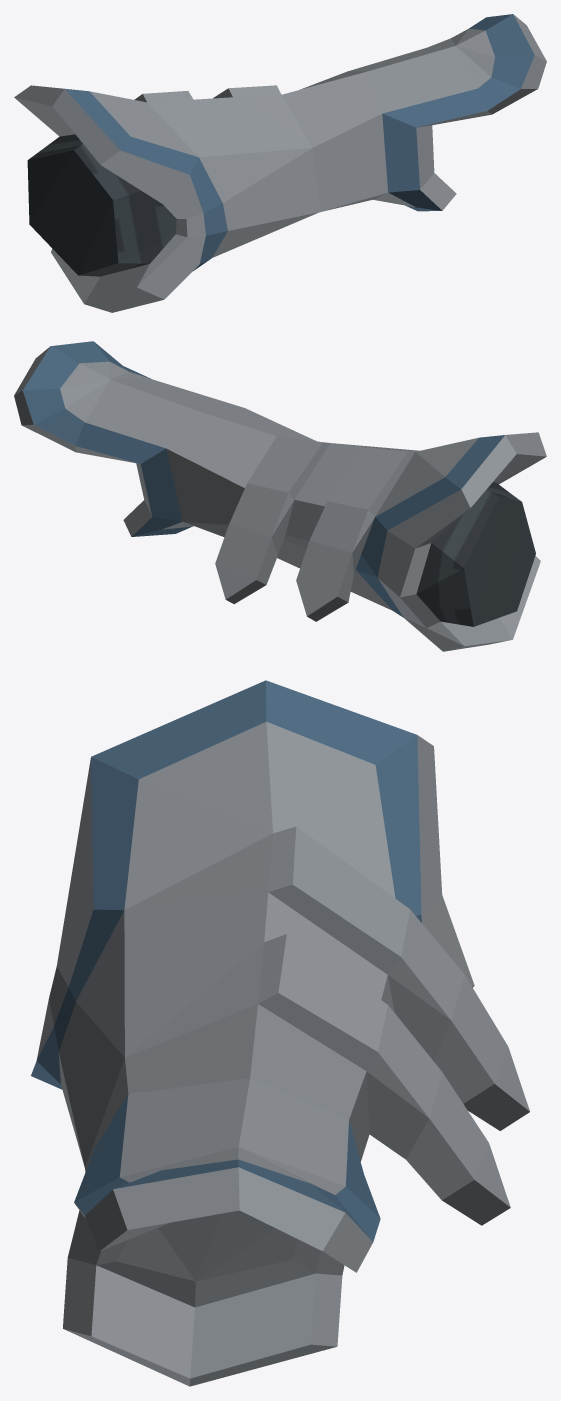
Rendered from Chr_ArmLowerLeft_Male_06_Static.fbx.
3 views of the same model, one above another, from view 1: azimuth 30°, elevation 25°; view 2: azimuth 150°, elevation 25°; view 3: azimuth 270°, elevation 25° (orthographic). The views are drawn at different scales.
Visible parts, largest first — view 1: Chr_ArmLowerLeft_Male_06_Static; view 2: Chr_ArmLowerLeft_Male_06_Static; view 3: Chr_ArmLowerLeft_Male_06_Static.
Boxes of the visible parts, x1,y1,x2,y2 form: Chr_ArmLowerLeft_Male_06_Static: [14, 14, 546, 312]; Chr_ArmLowerLeft_Male_06_Static: [14, 341, 546, 651]; Chr_ArmLowerLeft_Male_06_Static: [31, 680, 529, 1386].
Bounding box in the file's own units: 0.3929 × 0.1767 × 0.1819.
